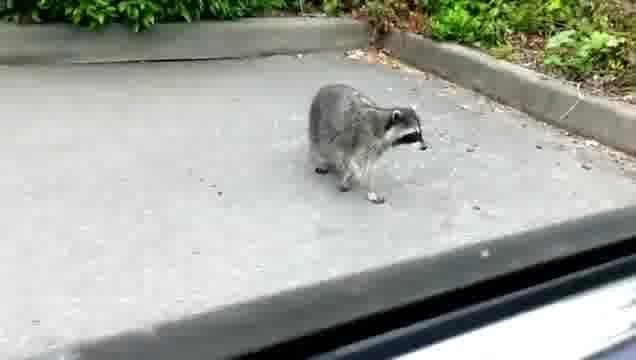raccoon: (305, 82, 431, 207)
